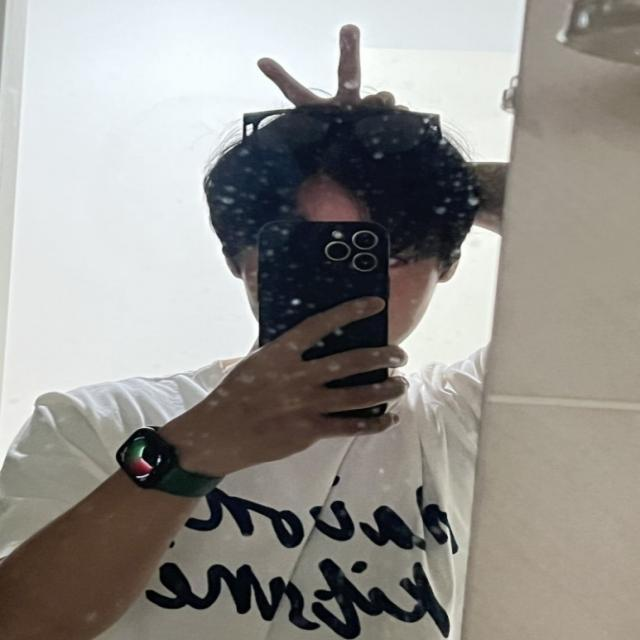phone: (258, 221, 388, 420)
